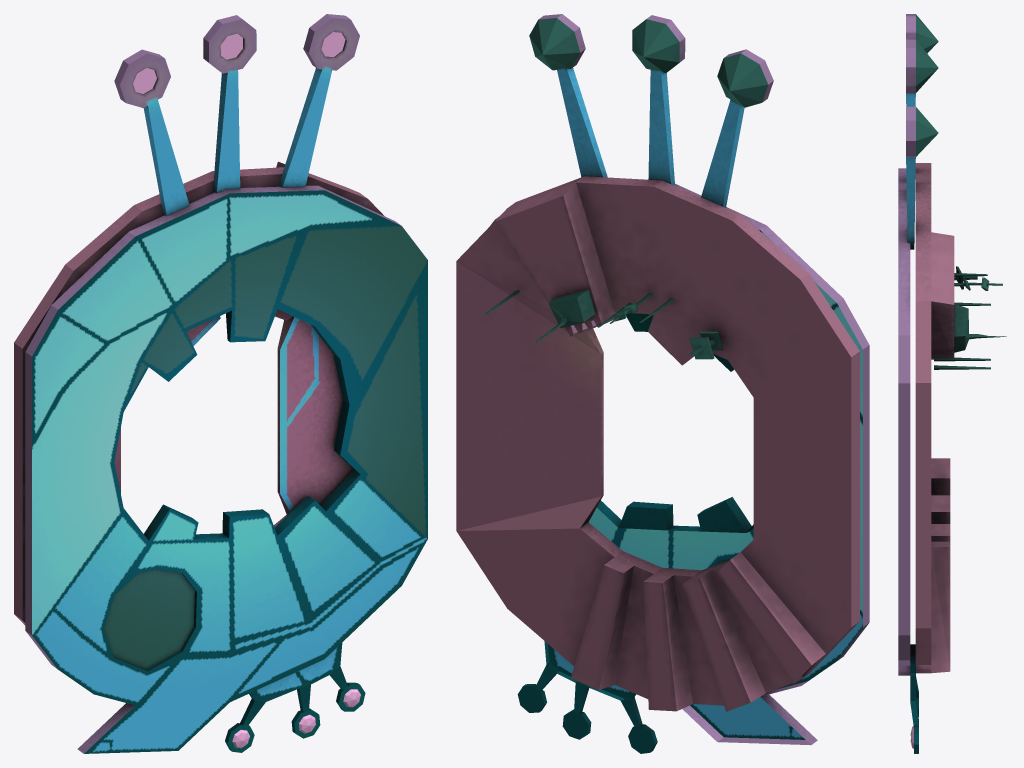
The model's file is ThugShip_Tile_Background_01.fbx.
The picture shows the model from 3 angles, left to right: view 1: azimuth 30°, elevation 25°; view 2: azimuth 150°, elevation 25°; view 3: azimuth 270°, elevation 25°; orthographic projection. The views are drawn at different scales.
Parts seen in each view (by area): view 1: ThugShip_Tile_Background_01, ThugShip_Tile_Background_01_Glow; view 2: ThugShip_Tile_Background_01; view 3: ThugShip_Tile_Background_01.
Part boxes in pixels (x1,y1,x2,y2): ThugShip_Tile_Background_01: [14, 14, 427, 753]; ThugShip_Tile_Background_01_Glow: [133, 32, 360, 748]; ThugShip_Tile_Background_01: [456, 14, 869, 753]; ThugShip_Tile_Background_01: [898, 14, 1006, 753].
Bounding box in the file's own units: 135 × 240 × 36.28.
2 materials, 1 textured.
